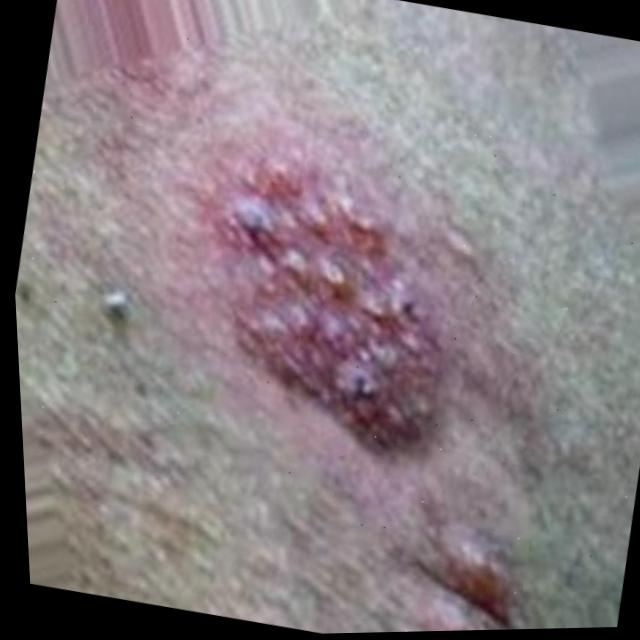Shingles: (181, 143, 482, 464)
